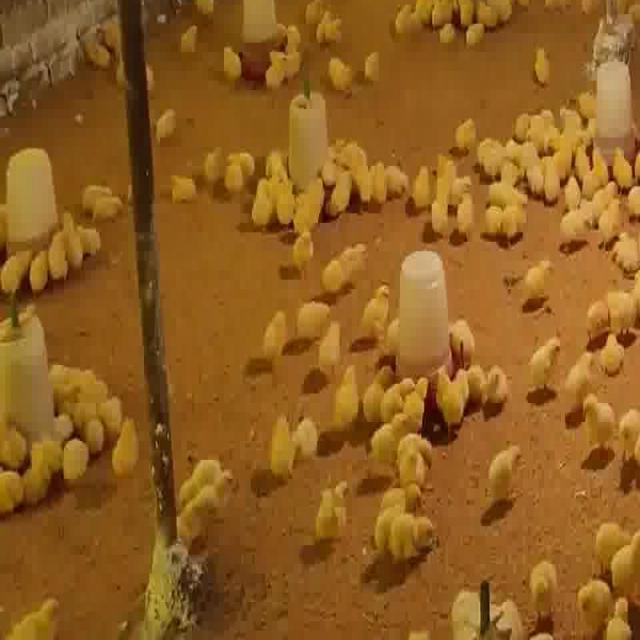poussin: (371, 502, 442, 564), (2, 581, 68, 640), (324, 233, 372, 295), (347, 410, 393, 472), (524, 327, 561, 400), (482, 438, 526, 498), (312, 478, 350, 543), (177, 492, 223, 542), (606, 516, 640, 582), (556, 348, 590, 414), (580, 384, 617, 442), (516, 249, 552, 308), (328, 357, 357, 428), (391, 422, 437, 466), (575, 567, 611, 623), (97, 430, 128, 492), (288, 284, 329, 330), (358, 272, 390, 330), (183, 462, 238, 494), (272, 192, 314, 232), (593, 184, 624, 237), (259, 310, 289, 364), (528, 547, 558, 601), (602, 277, 635, 326), (617, 396, 640, 466), (398, 364, 426, 420), (323, 158, 352, 212), (376, 472, 426, 502), (442, 359, 466, 421), (380, 366, 412, 412), (268, 410, 292, 469), (314, 313, 339, 368), (19, 453, 52, 494), (1, 236, 27, 288), (556, 204, 590, 243), (394, 0, 431, 35), (50, 225, 74, 278), (474, 128, 506, 167), (288, 407, 316, 450), (599, 332, 627, 374), (480, 355, 507, 398), (404, 160, 428, 208), (579, 290, 608, 329), (63, 426, 89, 468), (354, 152, 374, 205), (540, 146, 562, 194), (607, 589, 627, 640), (50, 353, 85, 382), (358, 370, 382, 412), (156, 100, 180, 142), (612, 231, 640, 267), (428, 189, 448, 238), (463, 354, 485, 398), (612, 134, 634, 177), (328, 56, 354, 92), (202, 141, 226, 180), (218, 44, 242, 82), (481, 200, 505, 238), (78, 182, 114, 207), (371, 152, 387, 208), (492, 158, 518, 192), (0, 462, 19, 508), (102, 386, 125, 424), (166, 173, 196, 202), (452, 106, 476, 142), (497, 200, 523, 233), (432, 146, 457, 180), (383, 154, 408, 188), (528, 100, 552, 135), (250, 188, 273, 224), (223, 153, 244, 192), (483, 0, 513, 27), (29, 240, 47, 285), (32, 428, 63, 454), (66, 213, 83, 260), (265, 52, 286, 88), (586, 174, 608, 208), (282, 39, 302, 76), (299, 168, 325, 196), (562, 166, 584, 198), (84, 364, 113, 388), (94, 198, 124, 221), (73, 386, 96, 416), (558, 98, 578, 132), (454, 195, 474, 229), (80, 216, 102, 246), (363, 47, 381, 83), (84, 410, 102, 446), (534, 44, 550, 84), (573, 134, 589, 174), (522, 150, 540, 184), (179, 22, 198, 54), (284, 17, 303, 49), (318, 16, 338, 44), (230, 146, 256, 167), (512, 104, 530, 132), (594, 141, 608, 177), (462, 14, 483, 37), (448, 167, 468, 191), (256, 174, 287, 188), (432, 2, 450, 24), (438, 15, 452, 38)
